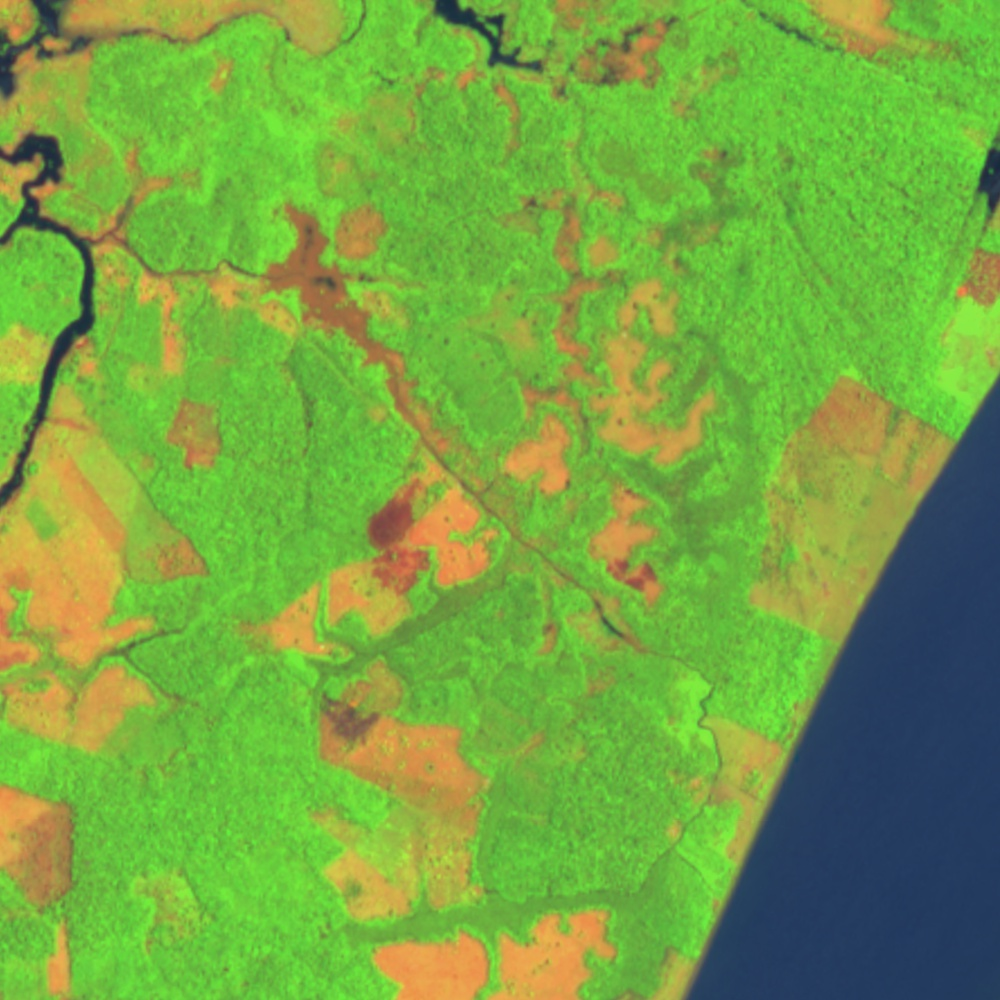legal: (480, 181, 727, 666), (1, 376, 219, 753), (235, 464, 504, 673), (751, 375, 956, 646), (306, 660, 515, 914), (262, 195, 450, 462), (367, 1, 741, 128), (1, 130, 198, 368), (1, 1, 365, 120), (371, 906, 618, 1000), (693, 697, 817, 876), (1, 776, 78, 1000), (755, 1, 966, 78), (951, 119, 1000, 306), (641, 938, 706, 1000)
